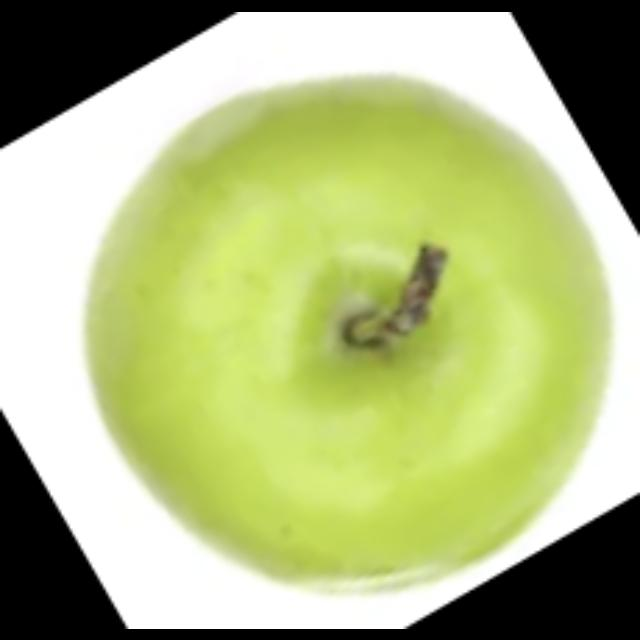Apel Segar: (62, 84, 618, 596)
